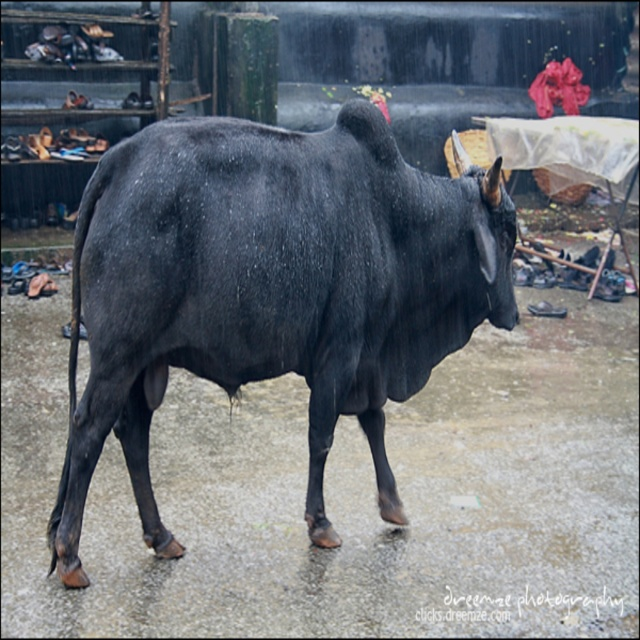Cattle: (46, 99, 523, 587)
